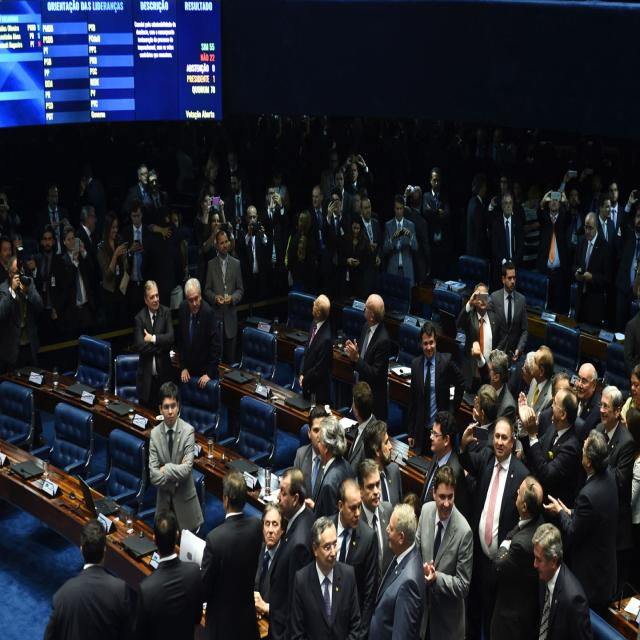body: (176, 112, 638, 186), (459, 414, 532, 639), (542, 428, 620, 614), (42, 517, 140, 640), (197, 468, 267, 639), (414, 463, 474, 640), (594, 384, 638, 603), (488, 474, 546, 640), (134, 507, 206, 639), (146, 380, 205, 541), (289, 515, 362, 640), (365, 498, 427, 640), (328, 476, 380, 640), (408, 320, 467, 459), (517, 386, 583, 510), (271, 466, 316, 640), (530, 520, 595, 639), (486, 258, 531, 414), (132, 277, 178, 414), (344, 293, 390, 426), (204, 229, 245, 364), (456, 282, 503, 398), (418, 409, 467, 520), (0, 253, 44, 372), (356, 457, 396, 586), (310, 413, 356, 524), (57, 224, 99, 345), (535, 187, 574, 317), (177, 277, 222, 389), (95, 209, 130, 353), (514, 344, 555, 462), (480, 188, 524, 294), (258, 185, 290, 326), (572, 211, 610, 327), (298, 292, 335, 411), (147, 212, 191, 310), (382, 193, 417, 310), (292, 403, 329, 513), (558, 174, 586, 319), (253, 500, 286, 621), (146, 211, 185, 310), (362, 420, 404, 511), (124, 196, 154, 318), (345, 379, 379, 484), (422, 167, 452, 280), (236, 204, 268, 304), (623, 405, 640, 592), (618, 188, 640, 330), (321, 189, 349, 300), (287, 209, 319, 291), (9, 231, 28, 369), (536, 368, 571, 439), (359, 195, 383, 298), (30, 226, 60, 307), (222, 170, 250, 255), (36, 182, 67, 258), (193, 188, 214, 299), (404, 184, 426, 289), (468, 383, 500, 454), (487, 347, 517, 422), (339, 213, 365, 296), (340, 152, 375, 212), (78, 166, 105, 243), (575, 361, 603, 434), (605, 178, 625, 274), (466, 173, 488, 260), (330, 164, 355, 231), (308, 183, 328, 265), (74, 204, 101, 264), (143, 170, 171, 225), (622, 280, 640, 360), (619, 363, 640, 430), (125, 164, 149, 217), (201, 207, 223, 264), (596, 193, 616, 246), (221, 150, 246, 192), (0, 187, 21, 236), (491, 174, 518, 211), (522, 350, 537, 399), (0, 233, 14, 285), (402, 491, 422, 512), (354, 188, 364, 213)
